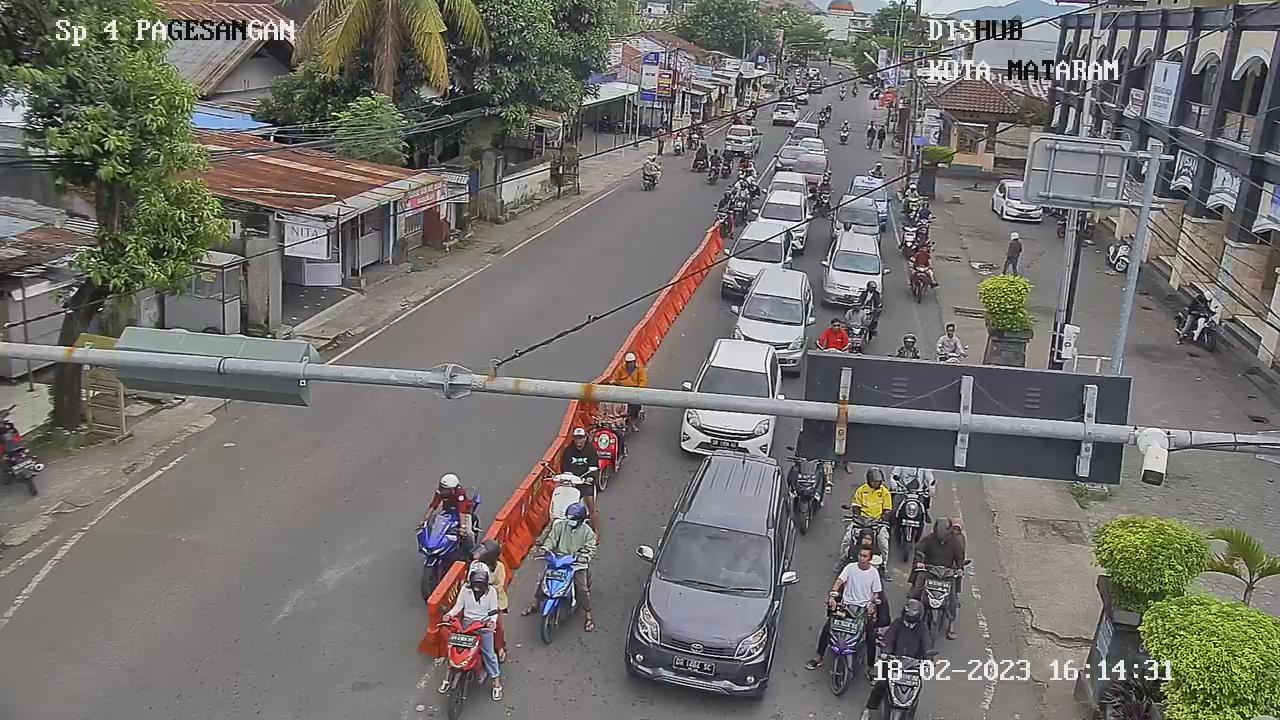car: (616, 446, 796, 699), (671, 326, 791, 464), (725, 264, 818, 377), (716, 215, 799, 308), (819, 219, 886, 306), (755, 188, 812, 252), (832, 195, 887, 250), (992, 180, 1053, 224), (845, 169, 890, 223), (766, 165, 810, 207), (769, 144, 814, 182), (791, 151, 832, 189), (723, 122, 766, 157)
motorbike: (426, 605, 497, 720), (525, 536, 587, 647), (820, 592, 872, 697), (537, 458, 596, 533), (779, 449, 832, 532), (910, 553, 964, 631), (886, 477, 934, 564), (414, 517, 462, 600), (581, 414, 629, 491), (836, 505, 891, 563), (905, 260, 936, 305), (840, 319, 868, 357), (898, 222, 921, 258), (813, 187, 835, 222), (710, 206, 733, 236), (914, 214, 935, 243), (903, 194, 923, 223), (729, 194, 747, 226), (836, 126, 852, 148)
person: (442, 558, 497, 631), (881, 597, 937, 659), (832, 541, 883, 608), (546, 496, 596, 564), (420, 470, 476, 530), (914, 514, 970, 573), (545, 425, 599, 485), (845, 464, 898, 521), (607, 346, 648, 393), (932, 319, 970, 366), (856, 275, 884, 312), (908, 239, 937, 273), (892, 328, 922, 360), (842, 296, 869, 330), (820, 323, 850, 352), (714, 189, 735, 215), (814, 171, 834, 197), (641, 153, 662, 177), (901, 180, 921, 205), (865, 158, 886, 180), (900, 210, 918, 235), (915, 200, 935, 222), (731, 182, 750, 205), (720, 144, 739, 165), (705, 147, 722, 168), (834, 117, 852, 131)
